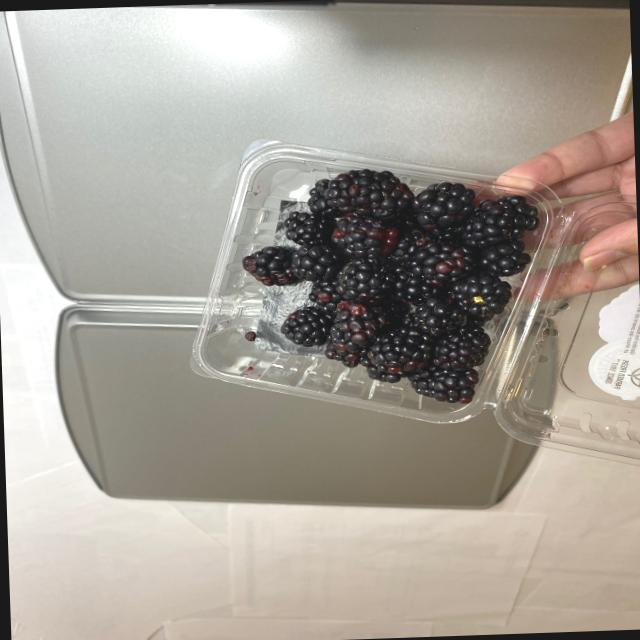blackberries: (238, 158, 498, 428)
